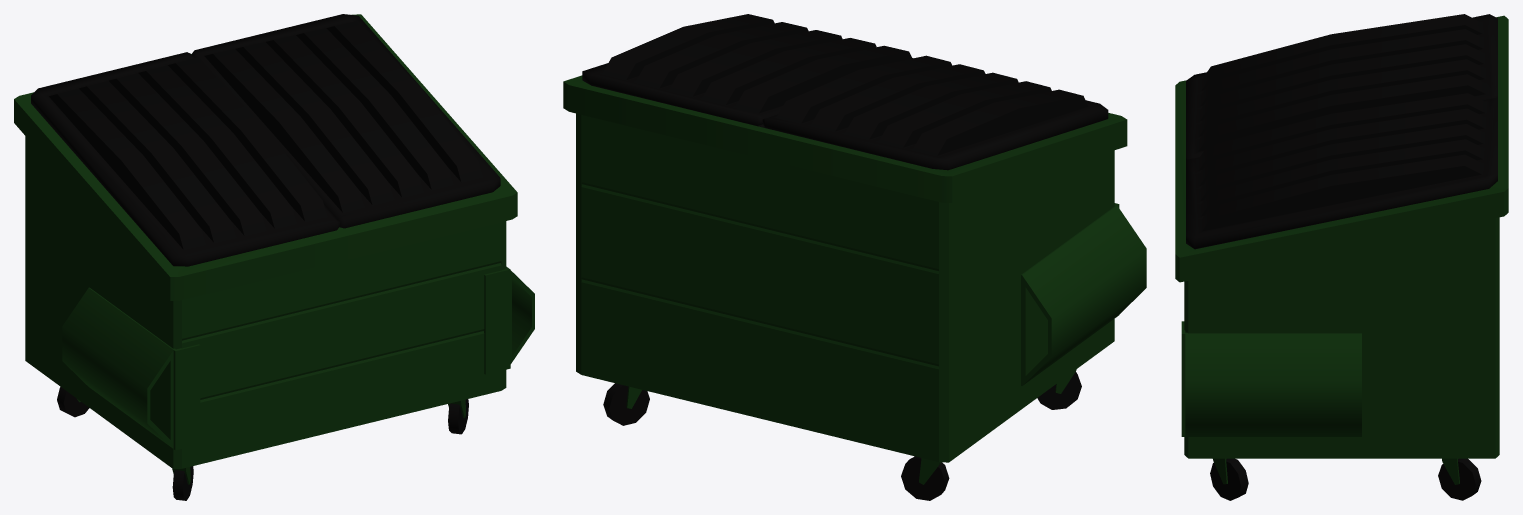
File: Prop_Dumpster.FBX
The picture shows the model from 3 angles, left to right: view 1: azimuth 30°, elevation 25°; view 2: azimuth 150°, elevation 25°; view 3: azimuth 270°, elevation 25°; orthographic projection. The views are drawn at different scales.
Parts seen in each view (by area): view 1: Prop_Dumpster; view 2: Prop_Dumpster; view 3: Prop_Dumpster.
Part boxes in pixels (x1=…): Prop_Dumpster: x1=14, y1=14, x2=534, y2=500; Prop_Dumpster: x1=563, y1=14, x2=1146, y2=500; Prop_Dumpster: x1=1175, y1=14, x2=1508, y2=500.
Bounding box in the file's own units: 95.76 × 76.8 × 68.62.
